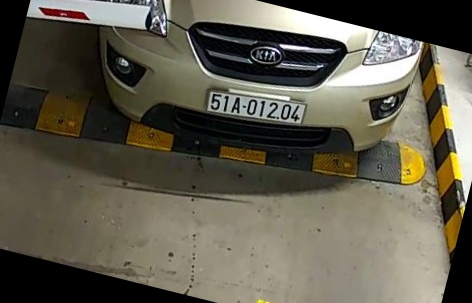plate: (202, 81, 313, 138)
